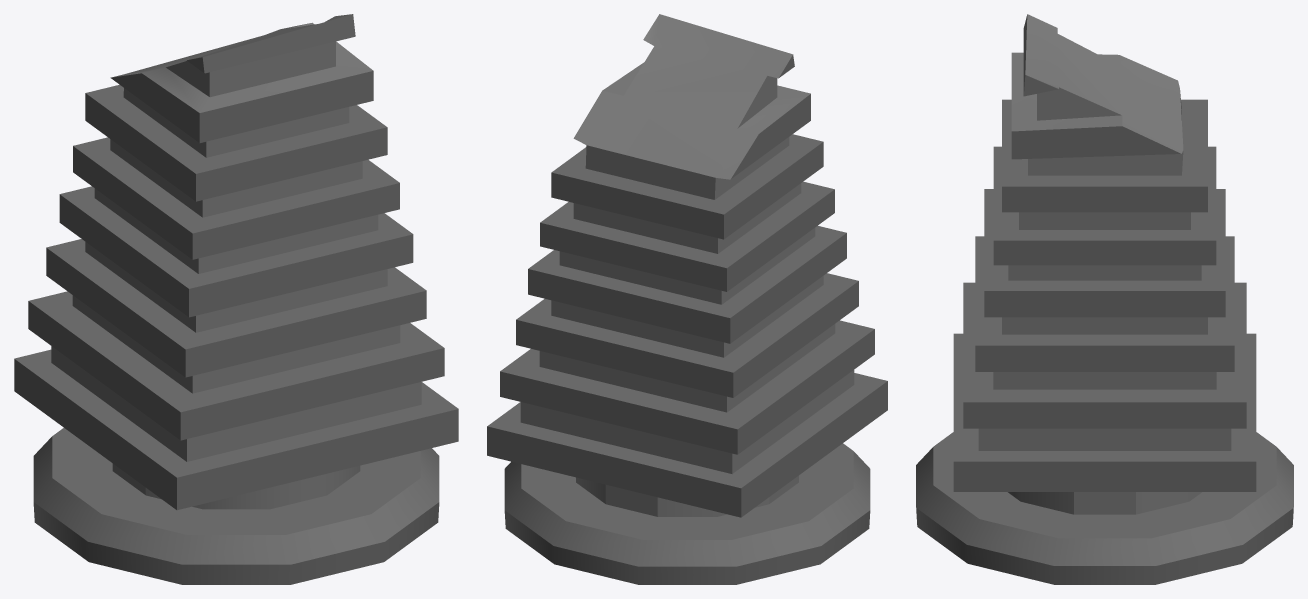
Rendered from lantern10.fbx.
The picture shows the model from 3 angles, left to right: view 1: azimuth 30°, elevation 25°; view 2: azimuth 150°, elevation 25°; view 3: azimuth 270°, elevation 25°; orthographic projection. The views are drawn at different scales.
Visible parts, largest first — view 1: lantern10; view 2: lantern10; view 3: lantern10.
Part boxes in pixels (left/top/right/bottom): lantern10: left=14, top=14, right=458, bottom=584; lantern10: left=487, top=14, right=887, bottom=584; lantern10: left=916, top=14, right=1293, bottom=584.
Size of the model in its own units: 101 by 137 by 101.
